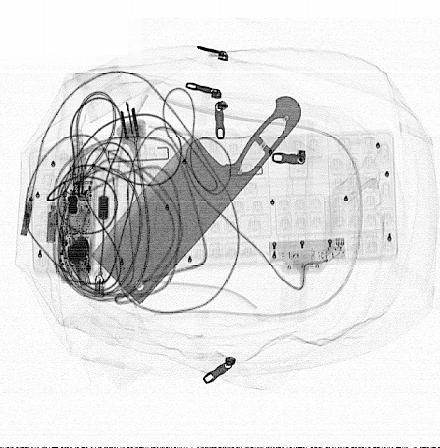Knife: (91, 95, 302, 305)
